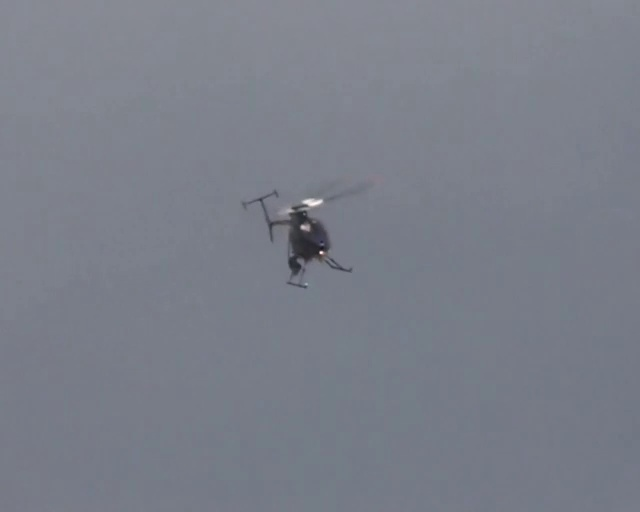HELICOPTER: (240, 174, 373, 289)
